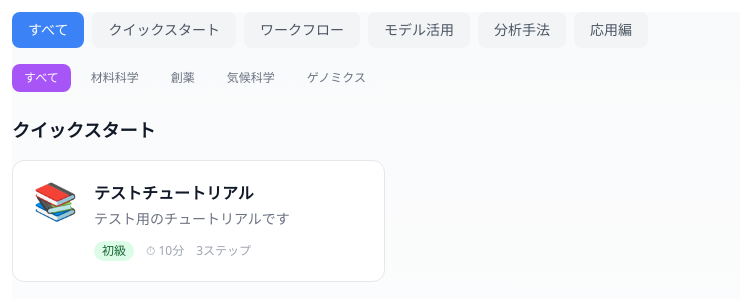
Test: Tutorial Components › TutorialList › should show empty state when filtered
This screenshot has width=740, height=299.
Click the button "創薬".
click(183, 78)  # box [159,64,207,92]
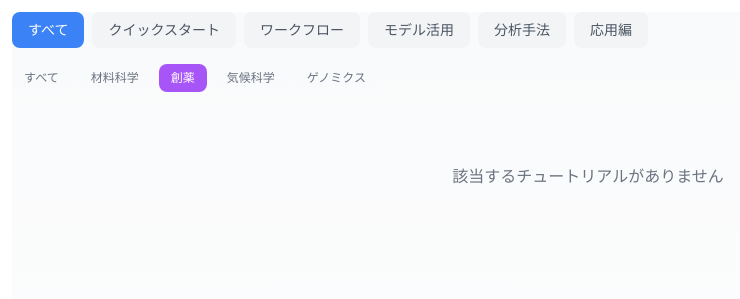
Now the text "該当するチュートリアルがありません" is shown, box [452,165,724,187]
